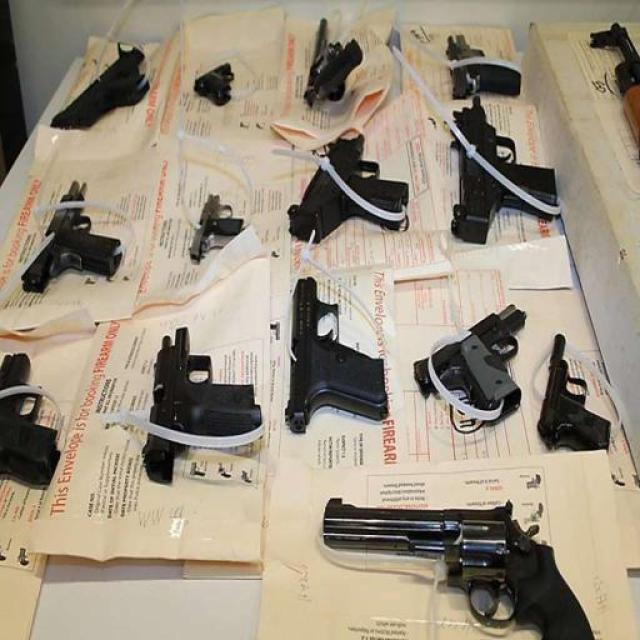pistol: (327, 476, 601, 638), (126, 317, 265, 480), (287, 263, 395, 448), (416, 296, 530, 432), (18, 168, 119, 306), (1, 339, 85, 485), (541, 327, 619, 465), (289, 15, 371, 119), (189, 169, 241, 293), (194, 57, 244, 111)
